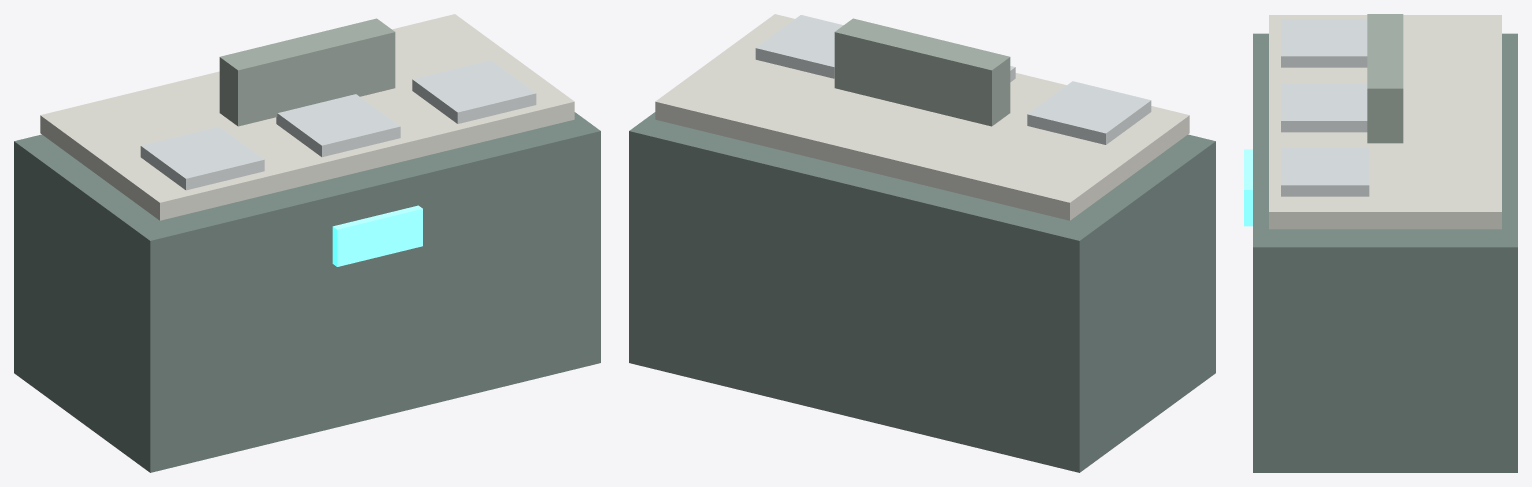
The model's file is s7-i06-toolcase.glb.
The picture shows the model from 3 angles, left to right: view 1: azimuth 30°, elevation 25°; view 2: azimuth 150°, elevation 25°; view 3: azimuth 270°, elevation 25°; orthographic projection. The views are drawn at different scales.
Visible parts, largest first — view 1: 000_portable_service_toolcase, 001_toolkit_snap_lid, 002_carry_handle, 003_tool_steel_storage_badge_0, 005_tool_steel_storage_badge_2, 004_tool_steel_storage_badge_1, 006_service_live_indicator; view 2: 000_portable_service_toolcase, 001_toolkit_snap_lid, 002_carry_handle, 003_tool_steel_storage_badge_0, 005_tool_steel_storage_badge_2; view 3: 000_portable_service_toolcase, 001_toolkit_snap_lid, 002_carry_handle, 005_tool_steel_storage_badge_2, 004_tool_steel_storage_badge_1, 003_tool_steel_storage_badge_0, 006_service_live_indicator.
Part boxes in pixels (bbox=[...]): 000_portable_service_toolcase: bbox=[14, 112, 600, 472]; 001_toolkit_snap_lid: bbox=[40, 14, 574, 220]; 002_carry_handle: bbox=[219, 18, 395, 126]; 003_tool_steel_storage_badge_0: bbox=[140, 126, 264, 190]; 005_tool_steel_storage_badge_2: bbox=[412, 60, 536, 123]; 004_tool_steel_storage_badge_1: bbox=[276, 94, 400, 157]; 006_service_live_indicator: bbox=[332, 205, 422, 266]; 000_portable_service_toolcase: bbox=[629, 112, 1215, 472]; 001_toolkit_snap_lid: bbox=[655, 14, 1189, 220]; 002_carry_handle: bbox=[834, 18, 1010, 126]; 003_tool_steel_storage_badge_0: bbox=[1027, 81, 1151, 144]; 005_tool_steel_storage_badge_2: bbox=[755, 15, 843, 78]; 000_portable_service_toolcase: bbox=[1253, 33, 1517, 472]; 001_toolkit_snap_lid: bbox=[1269, 15, 1501, 229]; 002_carry_handle: bbox=[1367, 14, 1403, 143]; 005_tool_steel_storage_badge_2: bbox=[1281, 148, 1369, 196]; 004_tool_steel_storage_badge_1: bbox=[1281, 83, 1367, 132]; 003_tool_steel_storage_badge_0: bbox=[1281, 19, 1367, 67]; 006_service_live_indicator: bbox=[1244, 149, 1252, 226].
Bounding box in the file's own units: 0.63 × 0.4325 × 0.341.
